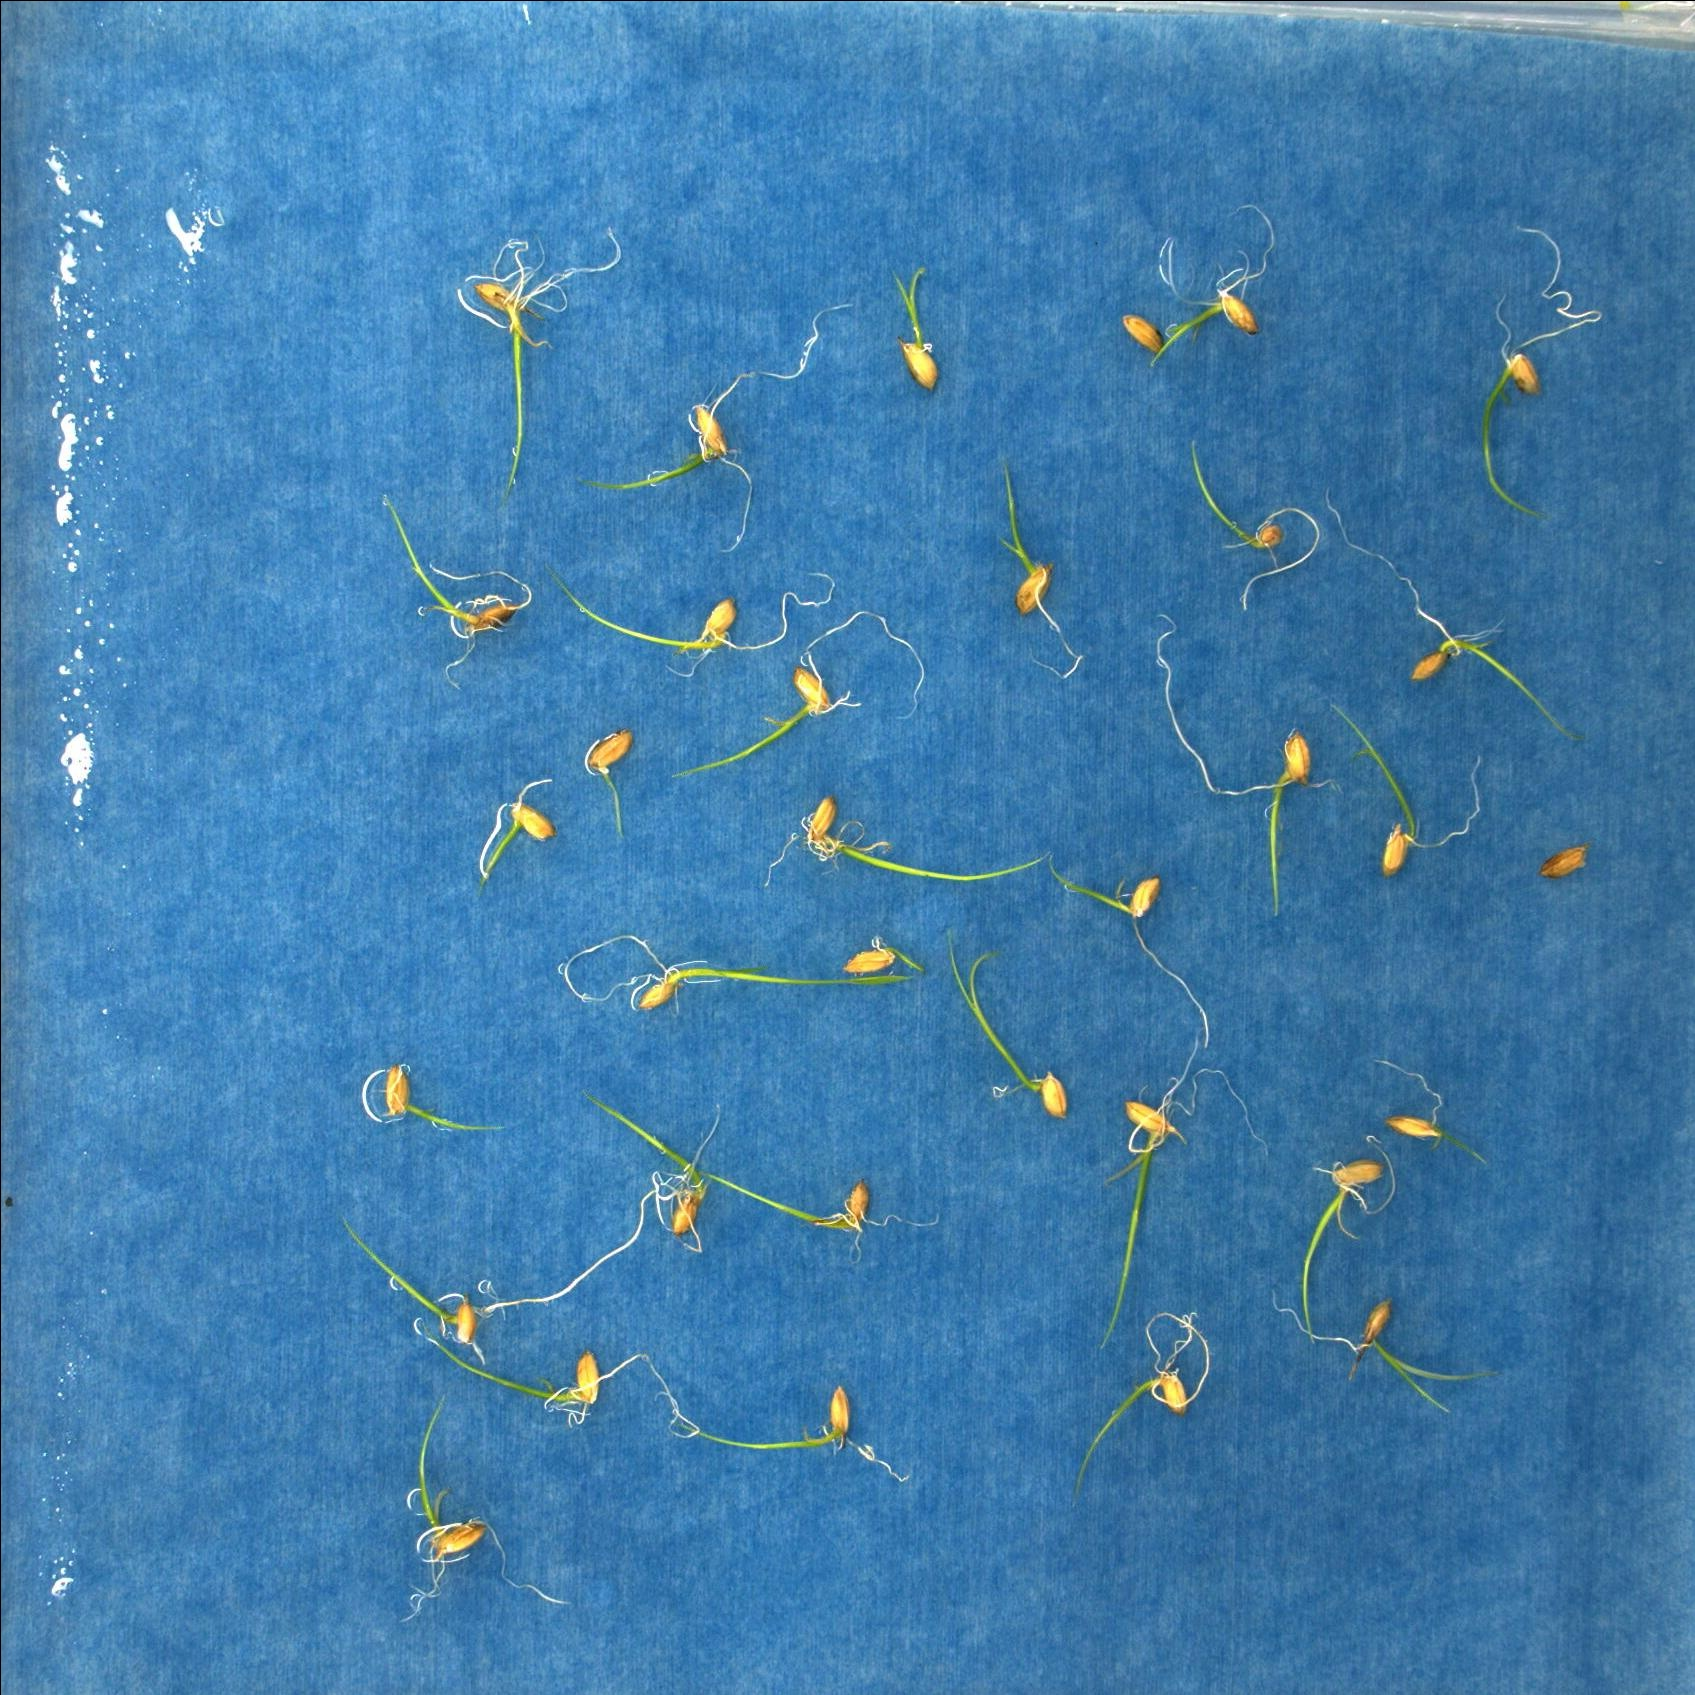not sprout: (1543, 840, 1588, 882), (1121, 314, 1163, 352)
sprout: (1322, 484, 1583, 742), (619, 304, 858, 557), (1153, 605, 1344, 917), (337, 1183, 660, 1366), (1097, 1020, 1267, 1350), (456, 228, 622, 490), (674, 612, 924, 775), (405, 1392, 570, 1619), (1481, 227, 1603, 517), (543, 560, 834, 678), (1042, 854, 1211, 1048), (377, 494, 531, 694), (1322, 698, 1482, 877), (765, 792, 1052, 885), (563, 934, 913, 1010), (1080, 1305, 1211, 1503), (702, 1159, 945, 1263), (1271, 1298, 1485, 1414), (947, 931, 1073, 1125), (674, 1385, 917, 1482), (1192, 436, 1319, 608), (587, 1093, 719, 1253), (1149, 206, 1274, 369), (1302, 1133, 1395, 1347), (1000, 459, 1083, 678), (422, 1341, 649, 1420), (1369, 1052, 1495, 1173), (376, 1065, 525, 1136), (480, 778, 560, 879), (889, 267, 939, 393), (591, 733, 633, 838), (840, 936, 927, 978)
